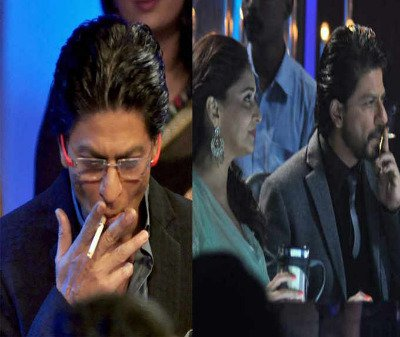cigarette: (85, 211, 106, 258)
